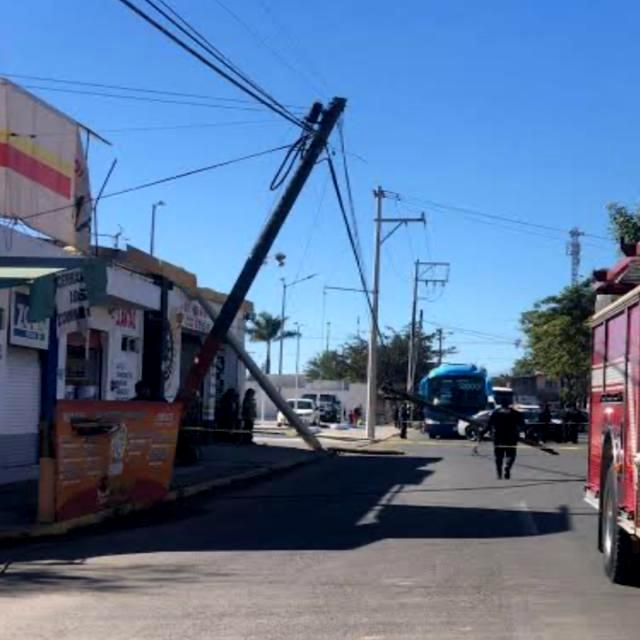Broken Pole: (174, 92, 353, 414), (194, 290, 326, 452), (374, 380, 554, 457)
